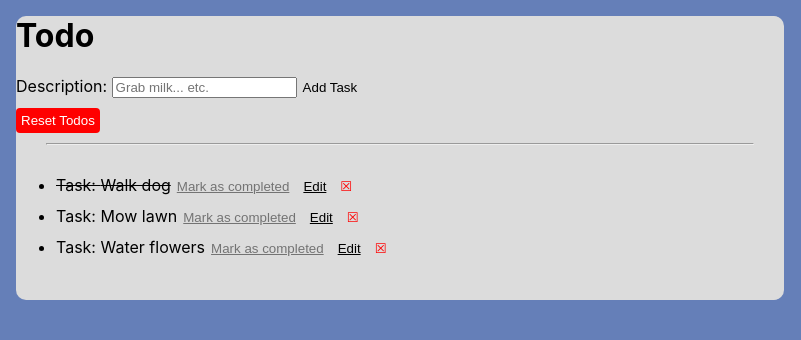
Scenario: should edit a task
Check: the list item "Water flowers" is shown, box [100,237,205,257]
Check: the field labelled "Edit Task:" is not shown
Click the button with class "Todo-editBtn" in the row of "Water flowers": (349, 249) [335,238,364,259]
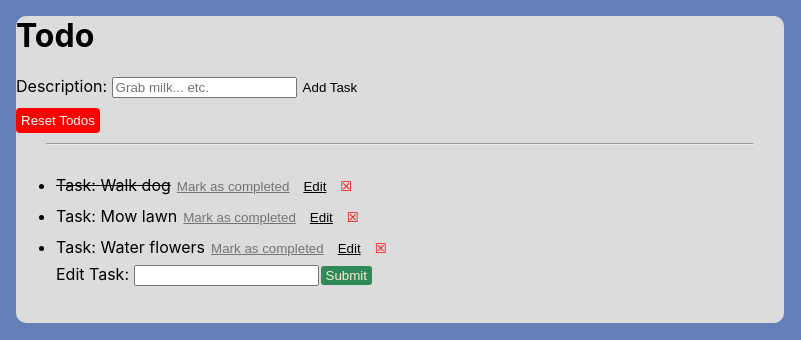
Check: the field labelled "Edit Task:" is shown
Check: the button "Submit" is shown, box [320,266,372,285]
In the field labelled "Edit Task:": (226, 276) [134,265,318,286], type "Testing edit task"
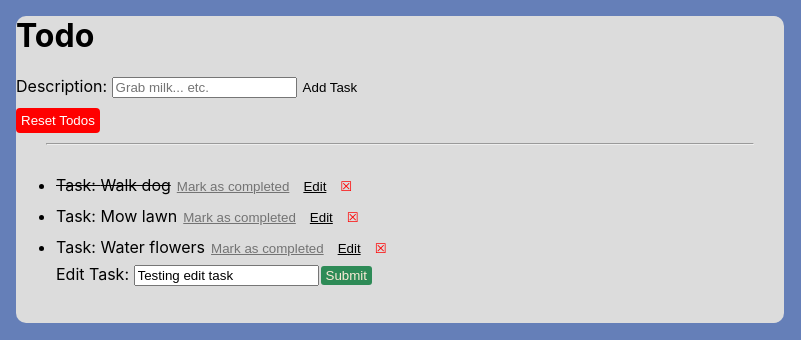
Click the button "Submit": (346, 276) [320,266,372,285]
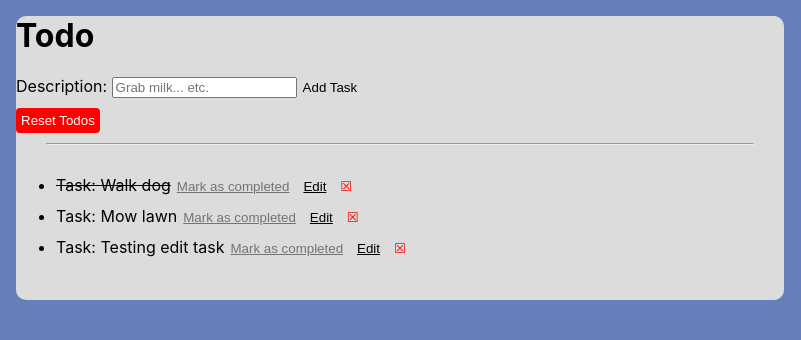
Check: the number of buttons with class "Todo-editBtn" is 3, box [300,176,329,197]; [307,207,336,228]; [354,238,383,259]
Check: the list item "Testing edit task" is shown, box [100,237,224,257]
